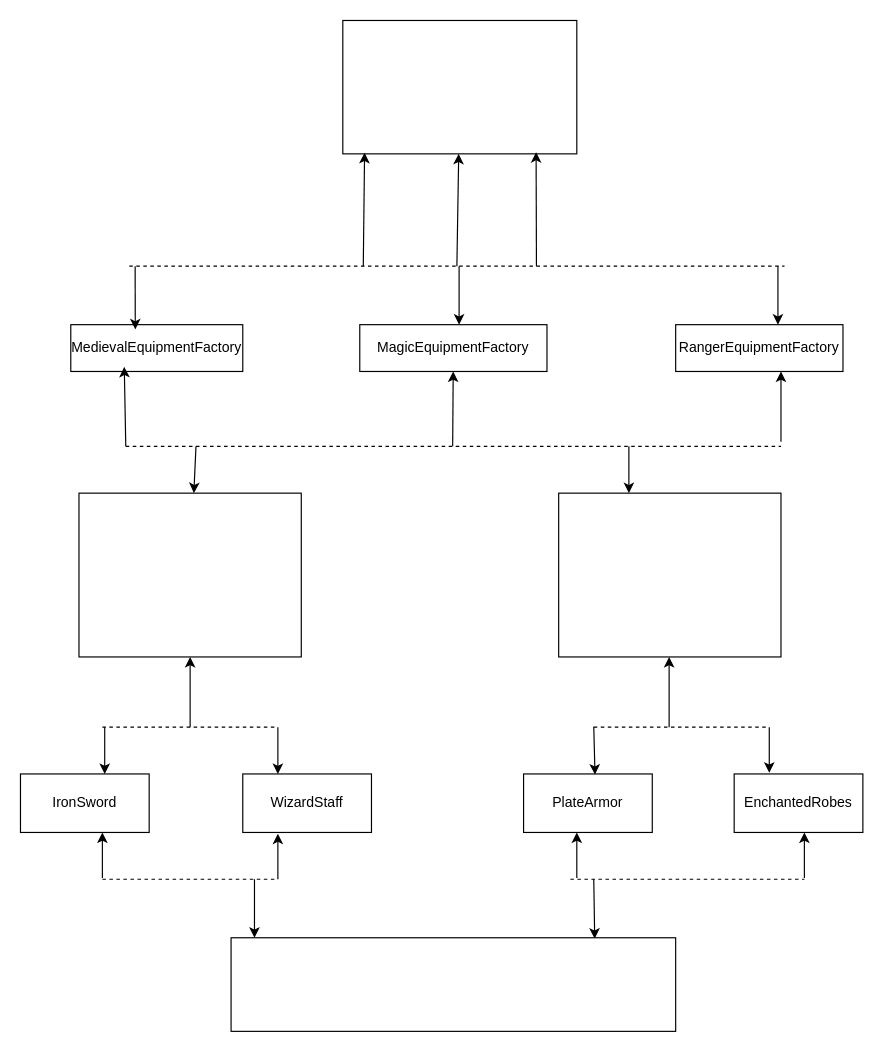
Image size: 883x1052. Some labels were removed from this diagram. Each missing label, with the centre of its shape:
<<Interface>> Armor + getDefense(): int + getArmorInfo(): String: (x=669, y=574)
<<Interface>> EquipmentFactory + createWeapon(): Weapon + createArmor(): Armor: (x=459, y=86)
<<Interface>> Weapon + getDamage(): int + getWeaponInfo(): String: (x=189, y=574)
Character - equippedWeapon: Weapon - equippedArmor: Armor: (x=453, y=984)
